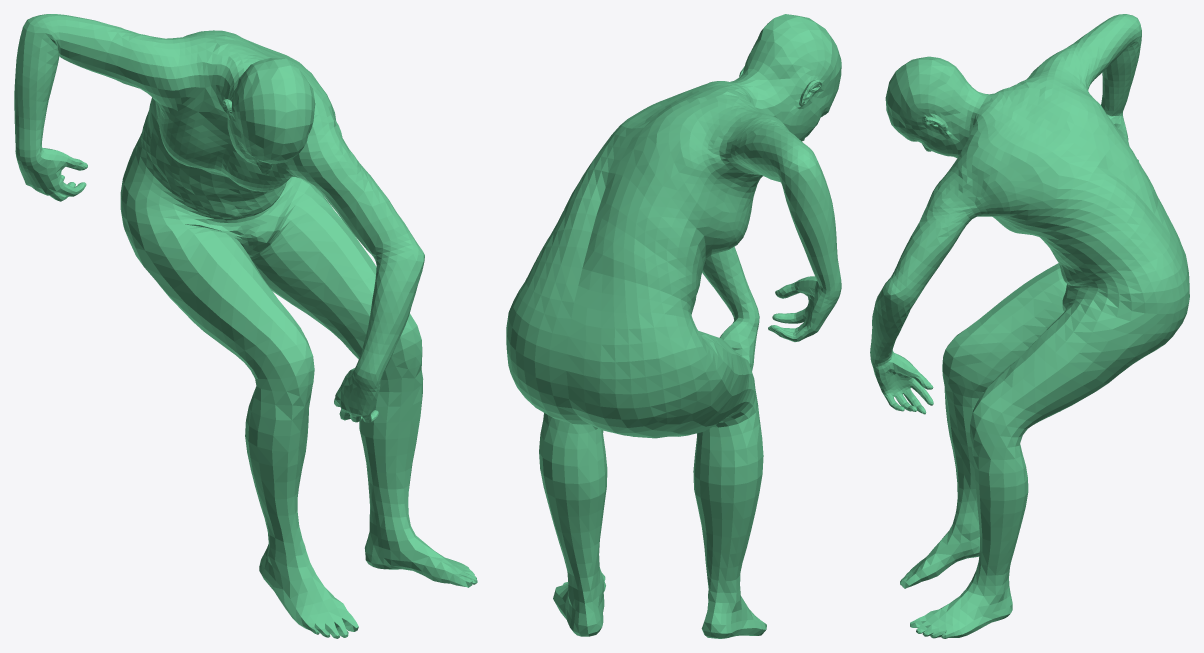
Rendered from hwc_free_08.glb.
The picture shows the model from 3 angles, left to right: view 1: azimuth 30°, elevation 25°; view 2: azimuth 150°, elevation 25°; view 3: azimuth 270°, elevation 25°; orthographic projection. The views are drawn at different scales.
Visible parts, largest first — view 1: hwc_free; view 2: hwc_free; view 3: hwc_free.
Part boxes in pixels (x1=…): hwc_free: x1=14, y1=14, x2=477, y2=638; hwc_free: x1=506, y1=14, x2=841, y2=638; hwc_free: x1=870, y1=14, x2=1189, y2=638.
Size of the model in its own units: 0.8042 by 1.25 by 0.7195.
